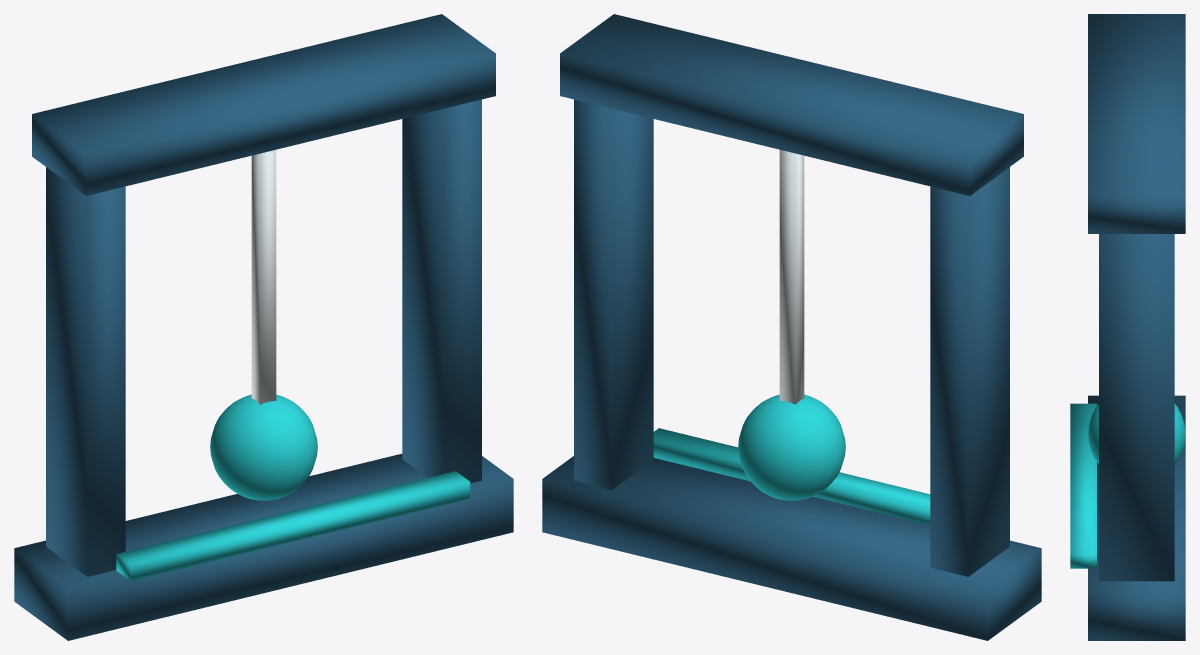
The model's file is timer-pendulum.glb.
3 views of the same model, side by side, from view 1: azimuth 30°, elevation 25°; view 2: azimuth 150°, elevation 25°; view 3: azimuth 270°, elevation 25° (orthographic). The views are drawn at different scales.
Parts seen in each view (by area): view 1: Top bar, Base, Left pillar, Right pillar, Teal rail, Weight, Rod; view 2: Base, Top bar, Left pillar, Right pillar, Weight, Rod, Teal rail; view 3: Right pillar, Top bar, Base, Teal rail, Weight.
Part boxes in pixels (bbox=[...]): Top bar: bbox=[32, 14, 495, 195]; Base: bbox=[14, 453, 513, 640]; Left pillar: bbox=[46, 167, 125, 576]; Right pillar: bbox=[402, 99, 481, 483]; Teal rail: bbox=[116, 471, 470, 581]; Weight: bbox=[210, 394, 317, 500]; Rod: bbox=[251, 150, 276, 404]; Base: bbox=[542, 456, 1041, 640]; Top bar: bbox=[560, 14, 1023, 195]; Left pillar: bbox=[930, 167, 1009, 576]; Right pillar: bbox=[574, 99, 653, 489]; Weight: bbox=[738, 394, 845, 500]; Rod: bbox=[779, 150, 804, 404]; Teal rail: bbox=[653, 428, 930, 524]; Right pillar: bbox=[1099, 234, 1174, 581]; Top bar: bbox=[1088, 14, 1185, 233]; Base: bbox=[1088, 395, 1185, 640]; Teal rail: bbox=[1070, 403, 1096, 568]; Weight: bbox=[1088, 403, 1185, 463].
Size of the model in its own units: 2.1 by 2.18 by 0.52.
